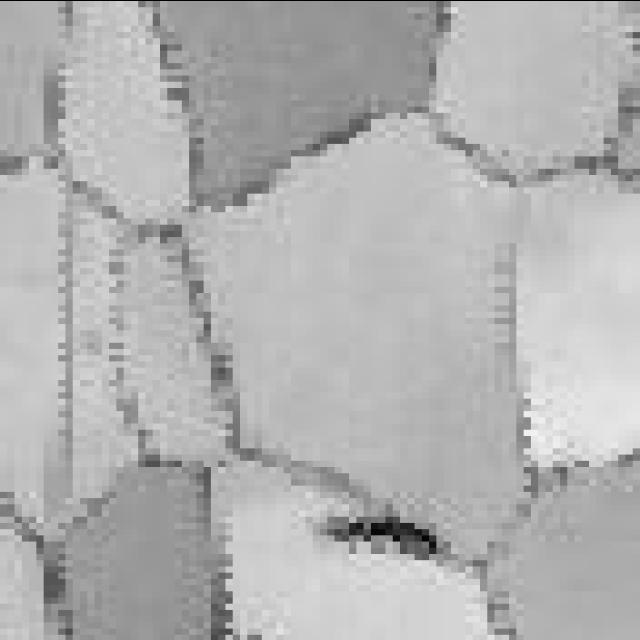good_void: (313, 509, 451, 570)
